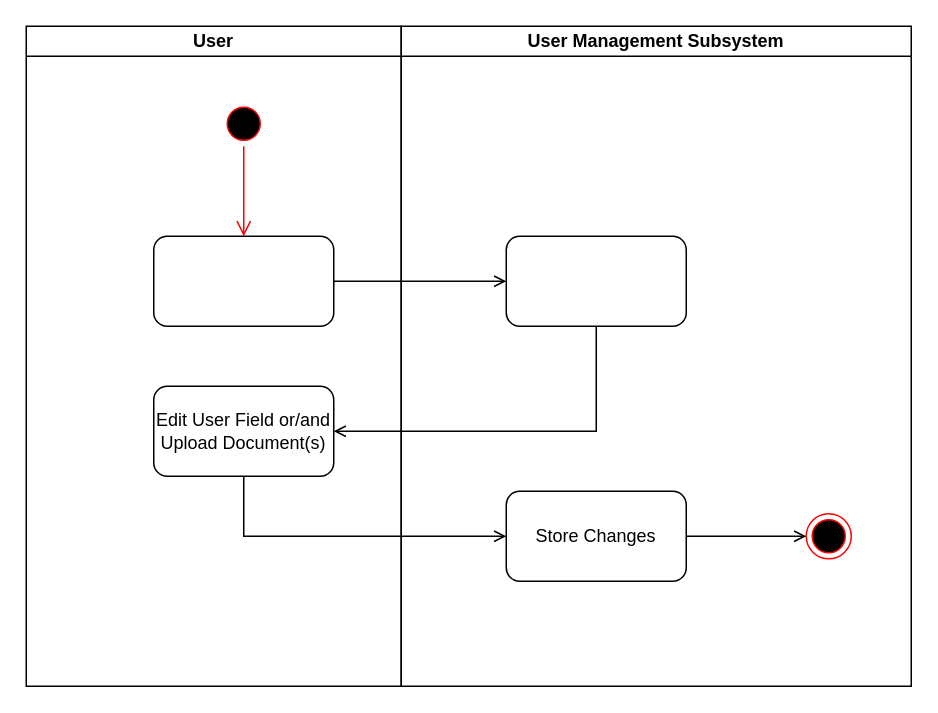
The diagram is 938 pixels wide and 713 high, and some of its shapes have lost their labels. Each missing label, with the centre of its shape:
"Click on Edit Profile" goes at point 243,280.
"Retrieve User Information" goes at point 595,280.
